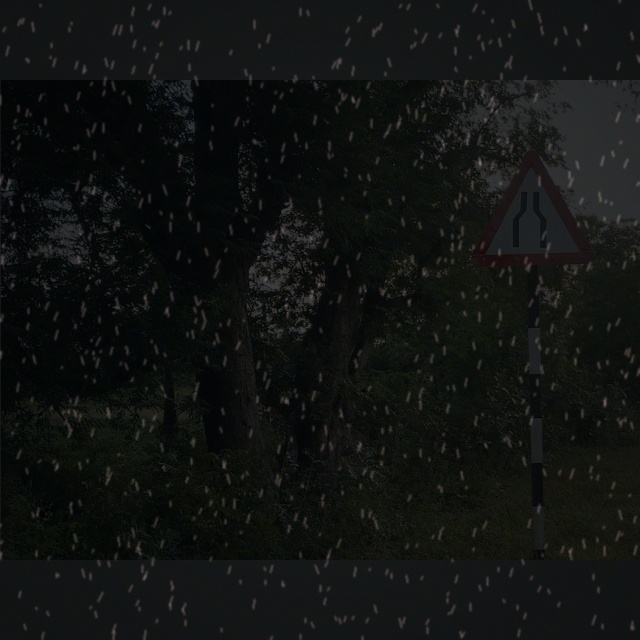Narrow_Road_Ahead: (469, 149, 598, 269)
